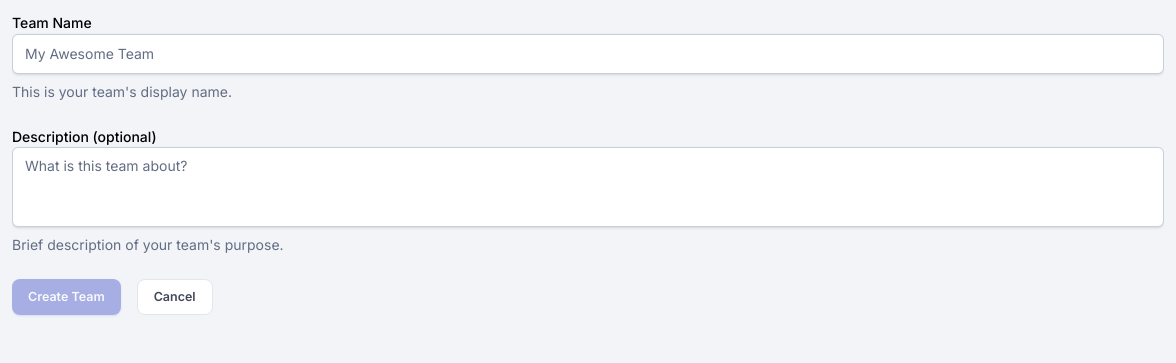
CreateTeamForm Component › Form Validation › should show error when team name is too short
The width and height of the screenshot is (1176, 363).
Note: Type a short name
In the field labelled "Team Name": (588, 54) 12,34 -> 1164,74, type "A"
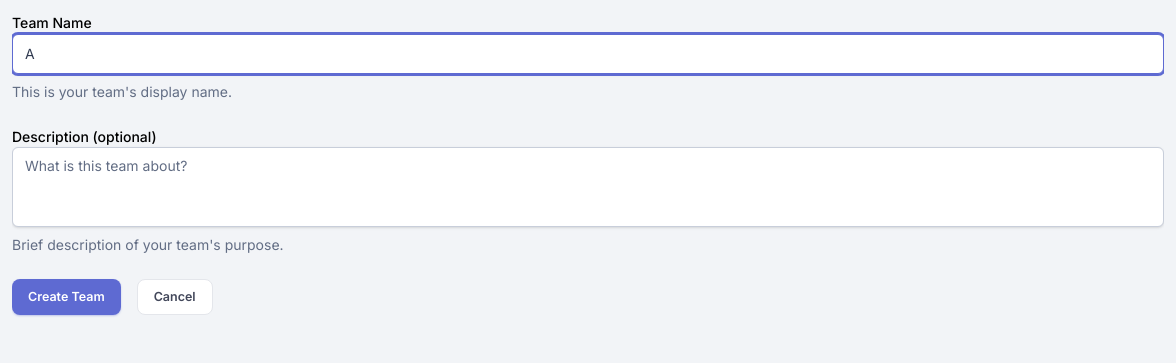
Click the button "Create Team": (66, 297) 12,279 -> 121,315
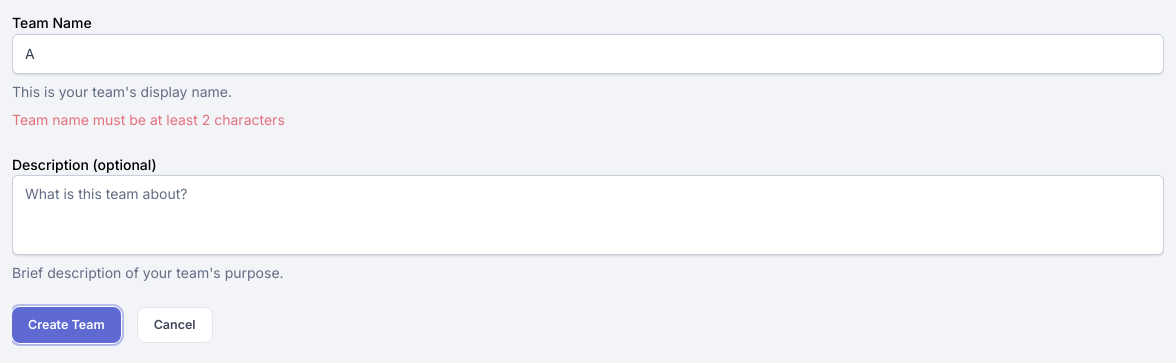
Expected: the text "Team name must be at least 2 characters" is shown, 12,111 -> 285,128
